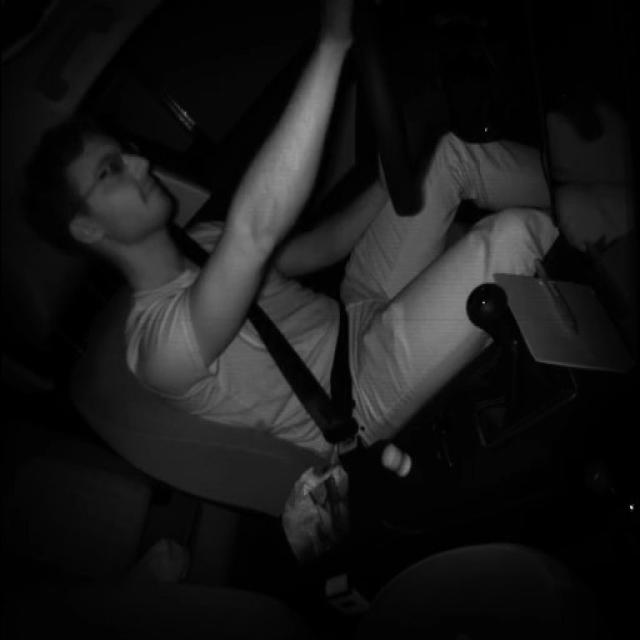pen: (532, 248, 582, 340)
